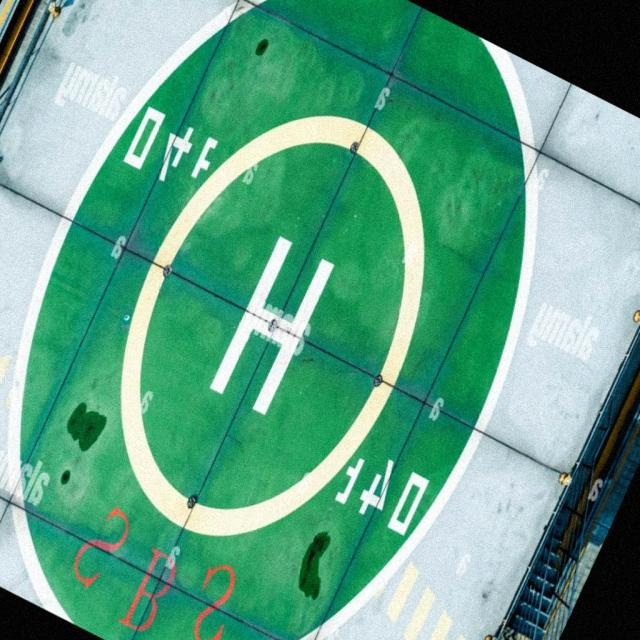helipad: (115, 110, 433, 539)
